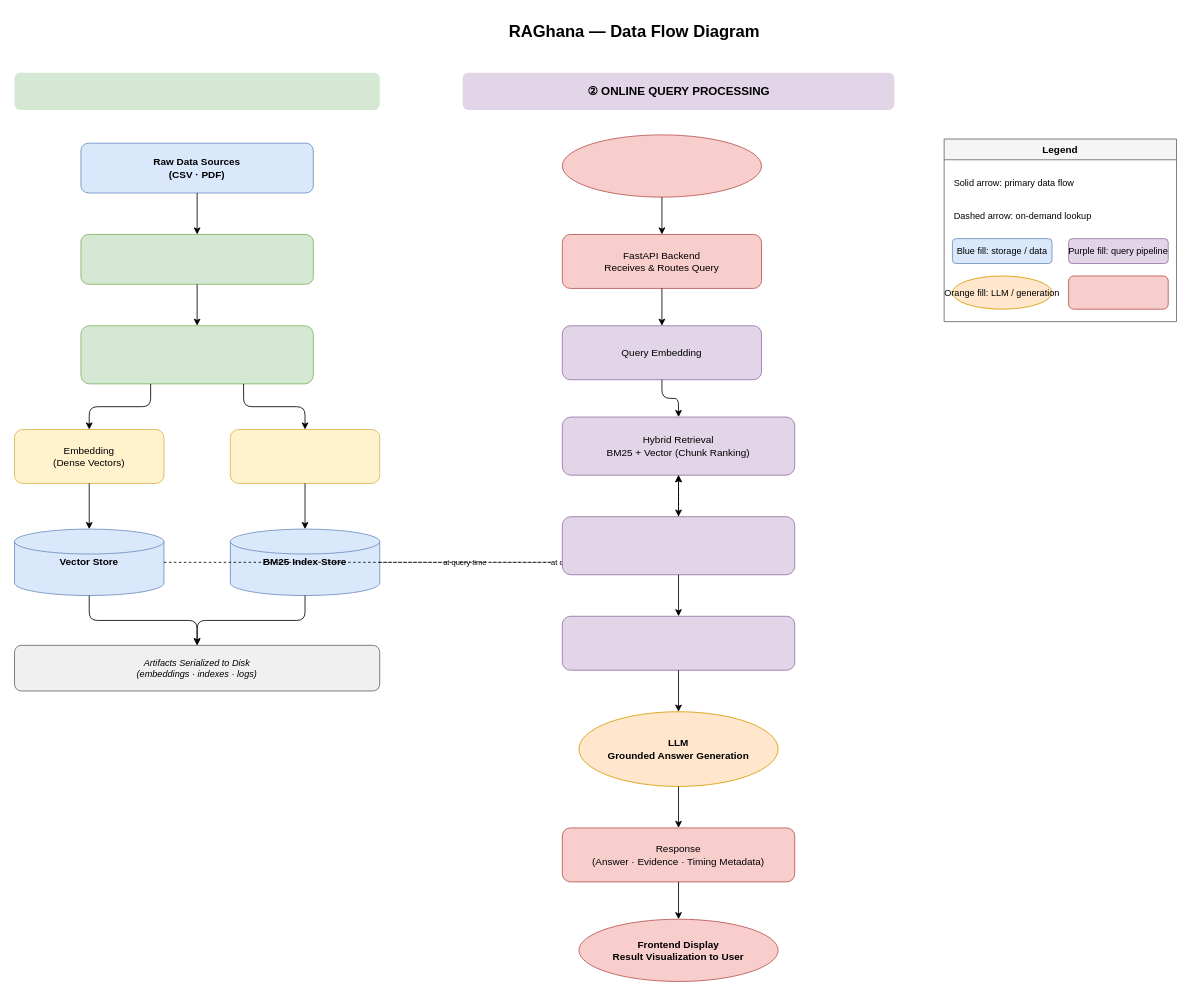
This 1191x996 diagram has some shape labels left out. The centre of each missing label's shape, as x and y in pixels:
BM25 Indexing: the point at 304,456
Chunking Row-group (CSV) · Paragraph-boundary (PDF): the point at 196,354
Ingestion & Cleaning: the point at 196,259
Multi-Step Numeric Reasoning (Deterministic, outside LLM): the point at 678,545
Prompt Construction (Context + Query): the point at 678,642
Red fill: user-facing / API: the point at 1118,292
User (Frontend) Submits Query: the point at 661,165
① OFFLINE INDEXING: the point at 196,91
